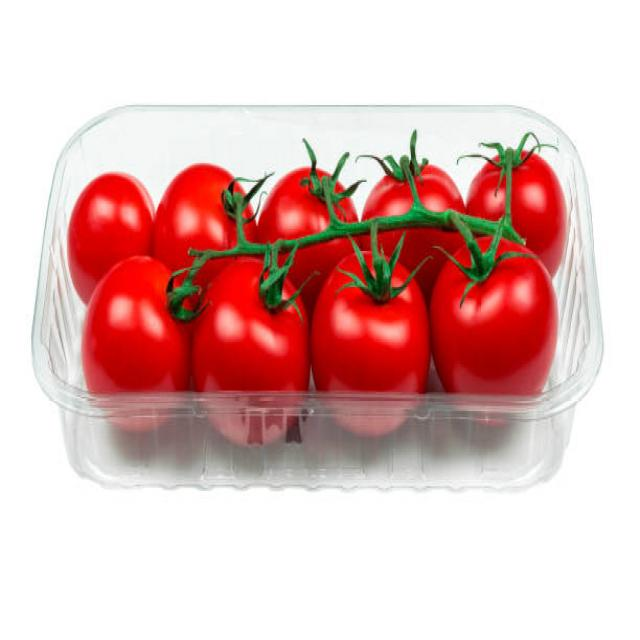tomatoes: (64, 133, 569, 394)
